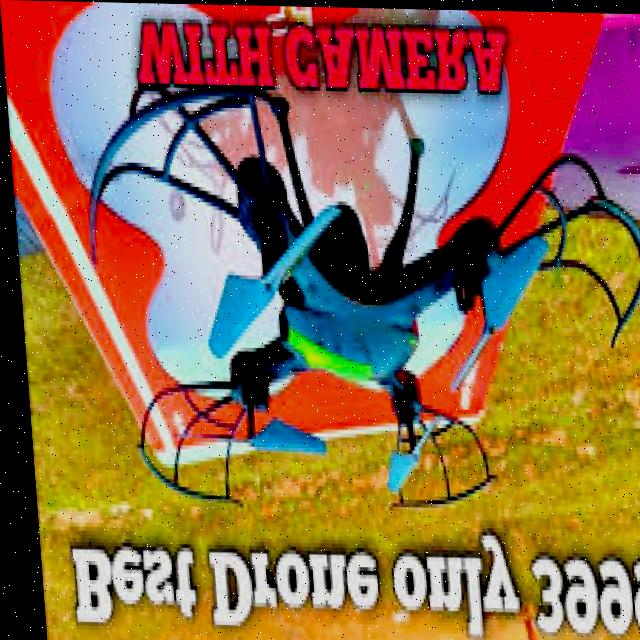drone: (52, 61, 640, 525)
